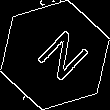N_SW: (23, 23, 87, 87)
